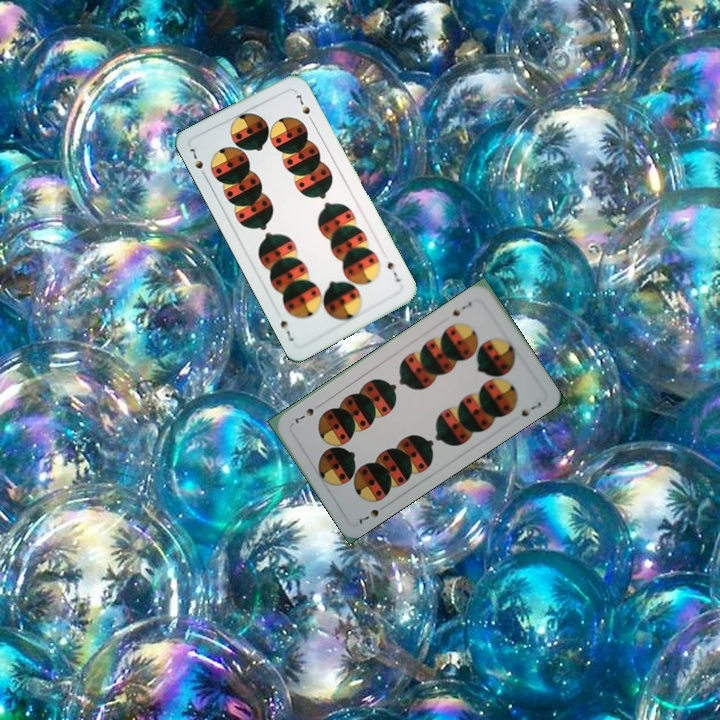S7: (355, 500, 390, 527), (186, 144, 210, 181), (448, 297, 474, 319), (383, 257, 403, 285)
